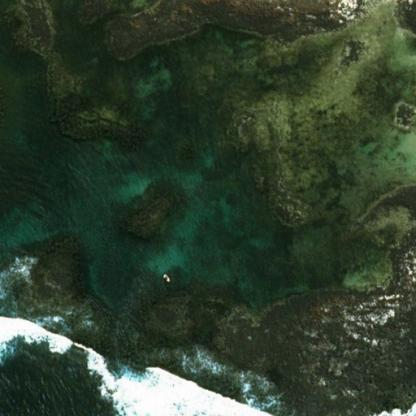ship: (158, 267, 174, 286)
